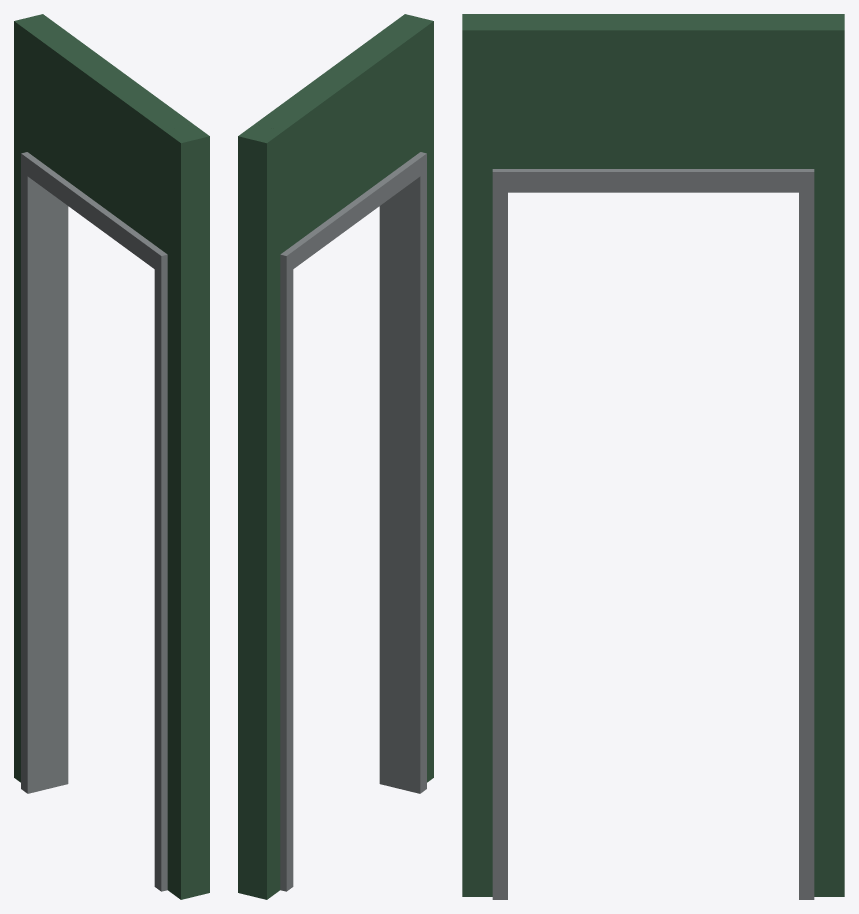
File: inside-doorway_final-optimized.glb
The picture shows the model from 3 angles, left to right: view 1: azimuth 30°, elevation 25°; view 2: azimuth 150°, elevation 25°; view 3: azimuth 270°, elevation 25°; orthographic projection. The views are drawn at different scales.
Parts seen in each view (by area): view 1: PD_jambL, PD_trimR, PD_lintel, PD_trimL, PD_jambR, PD_trimH; view 2: PD_jambR, PD_trimL, PD_lintel, PD_trimR, PD_jambL, PD_trimH; view 3: PD_lintel, PD_jambL, PD_jambR, PD_trimL, PD_trimR, PD_trimH.
Part boxes in pixels (bbox=[...]): PD_jambL: bbox=[164, 124, 209, 899]; PD_trimR: bbox=[21, 152, 68, 793]; PD_lintel: bbox=[30, 26, 192, 251]; PD_trimL: bbox=[154, 249, 167, 891]; PD_jambR: bbox=[14, 14, 59, 782]; PD_trimH: bbox=[21, 153, 167, 274]; PD_jambR: bbox=[238, 124, 283, 899]; PD_trimL: bbox=[379, 152, 426, 793]; PD_lintel: bbox=[255, 26, 417, 251]; PD_trimR: bbox=[280, 249, 293, 891]; PD_jambL: bbox=[388, 14, 433, 782]; PD_trimH: bbox=[280, 153, 426, 273]; PD_lintel: bbox=[500, 14, 806, 168]; PD_jambL: bbox=[462, 14, 500, 896]; PD_jambR: bbox=[806, 14, 844, 896]; PD_trimL: bbox=[492, 169, 507, 899]; PD_trimR: bbox=[799, 169, 814, 899]; PD_trimH: bbox=[492, 169, 814, 192].
Size of the model in its own units: 0.14 by 2.5 by 1.
